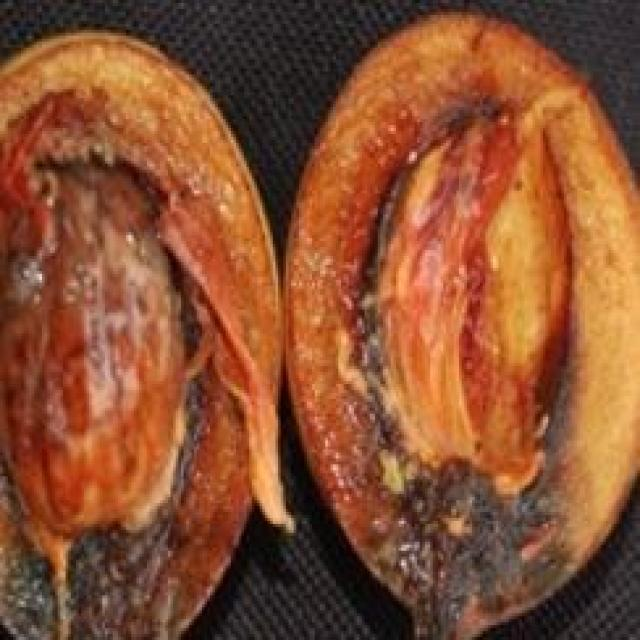damaged: (283, 12, 637, 637), (0, 30, 294, 637)
